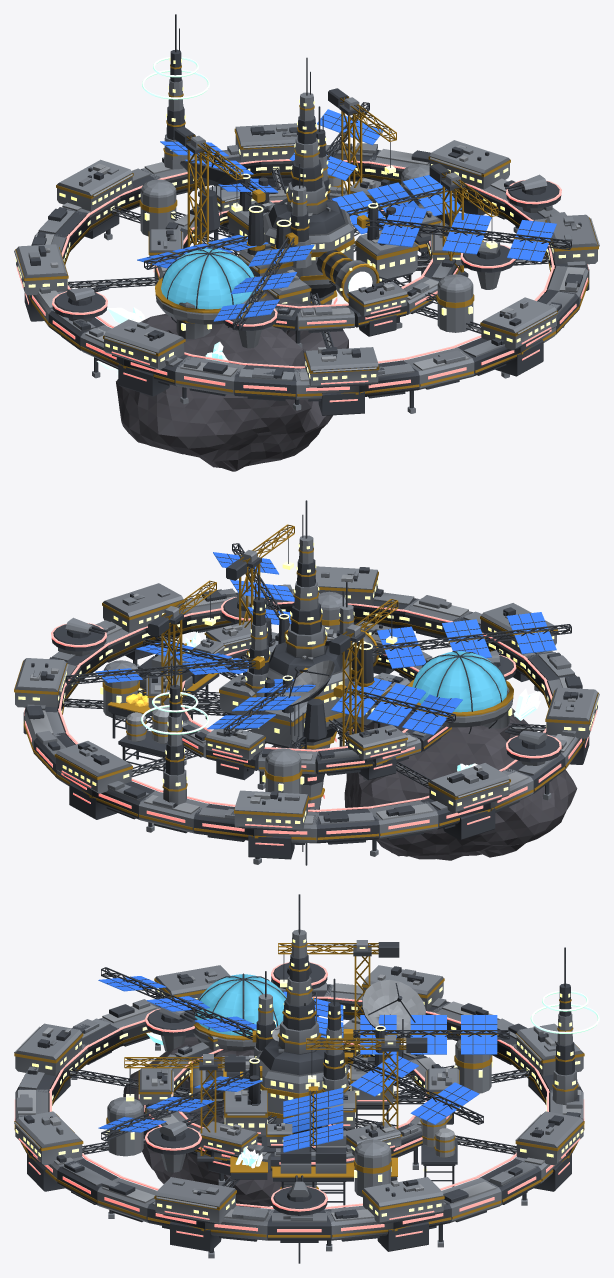
File: station_l6.glb
The picture shows the model from 3 angles, top to bottom: view 1: azimuth 30°, elevation 25°; view 2: azimuth 150°, elevation 25°; view 3: azimuth 270°, elevation 25°; orthographic projection.
Parts seen in each view (by area): view 1: station_l6, spin_ring, crane_0_mesh, crane_2_mesh, crane_1_mesh; view 2: station_l6, spin_ring, crane_0_mesh, crane_1_mesh, crane_2_mesh; view 3: station_l6, spin_ring, crane_1_mesh, crane_2_mesh, crane_0_mesh.
Boxes of the visible parts, <box> form: station_l6: <box>14,14,599,471</box>; spin_ring: <box>148,177,462,347</box>; crane_0_mesh: <box>174,126,243,212</box>; crane_2_mesh: <box>429,163,498,248</box>; crane_1_mesh: <box>328,88,396,173</box>; station_l6: <box>14,500,599,865</box>; spin_ring: <box>146,621,451,789</box>; crane_0_mesh: <box>329,599,398,654</box>; crane_1_mesh: <box>148,580,216,636</box>; crane_2_mesh: <box>226,524,294,580</box>; station_l6: <box>14,894,599,1263</box>; spin_ring: <box>138,1016,459,1186</box>; crane_1_mesh: <box>306,1035,427,1082</box>; crane_2_mesh: <box>124,1054,245,1101</box>; crane_0_mesh: <box>278,940,399,987</box>.
Bounding box in the file's own units: 42.08 × 29.1 × 41.88.
